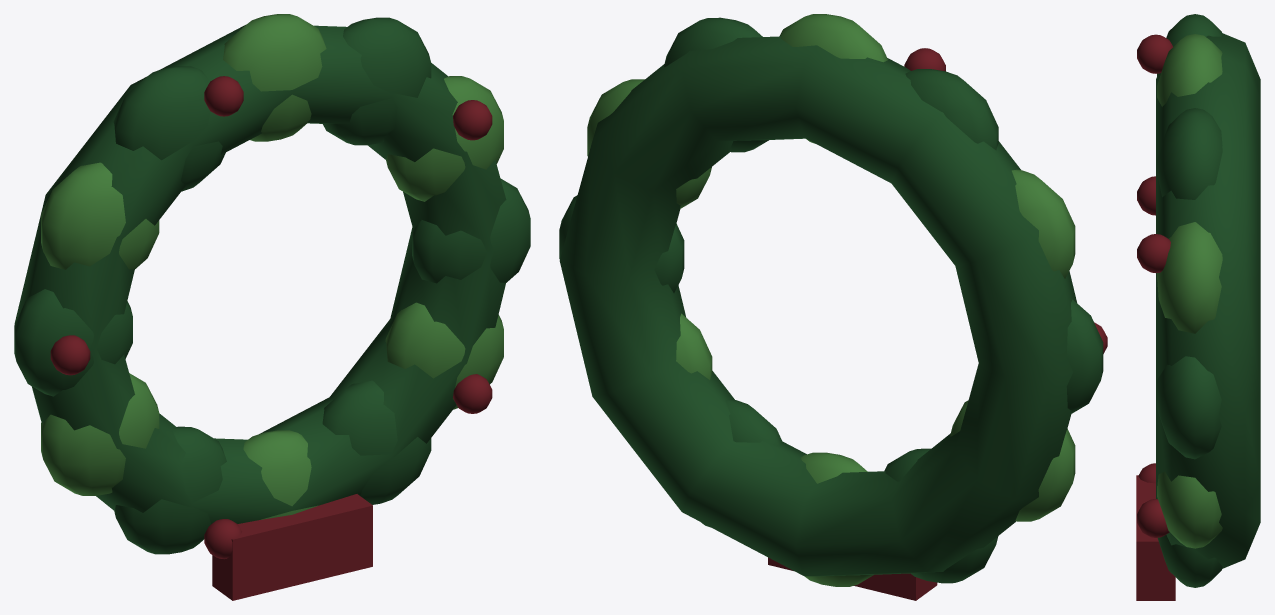
File: wreath.glb
3 renders of one model, left to right at view 1: azimuth 30°, elevation 25°; view 2: azimuth 150°, elevation 25°; view 3: azimuth 270°, elevation 25°, orthographic. The views are drawn at different scales.
Visible parts, largest first — view 1: Part0, Part18, Part6, Part5, Part4, Part3, Part8, Part9, Part7, Part11, Part1, Part12 (+7 smaller); view 2: Part0, Part5, Part6, Part4, Part7, Part3, Part8, Part9, Part2, Part10, Part1, Part11 (+3 smaller); view 3: Part0, Part2, Part1, Part3, Part12, Part4, Part18, Part11, Part13, Part14, Part5, Part17 (+2 smaller).
Part boxes in pixels (bbox=[...]): Part0: bbox=[14, 25, 506, 523]; Part18: bbox=[212, 494, 372, 600]; Part6: bbox=[41, 162, 159, 269]; Part5: bbox=[113, 66, 225, 191]; Part4: bbox=[223, 14, 326, 141]; Part3: bbox=[323, 17, 431, 145]; Part8: bbox=[41, 373, 159, 495]; Part9: bbox=[114, 426, 226, 554]; Part7: bbox=[14, 289, 132, 396]; Part11: bbox=[322, 380, 431, 504]; Part1: bbox=[412, 178, 530, 283]; Part12: bbox=[385, 302, 503, 409]; Part0: bbox=[559, 36, 1076, 576]; Part5: bbox=[905, 69, 998, 150]; Part6: bbox=[1012, 169, 1075, 278]; Part4: bbox=[780, 14, 887, 143]; Part7: bbox=[1066, 299, 1103, 413]; Part3: bbox=[664, 17, 768, 152]; Part8: bbox=[950, 400, 1075, 521]; Part9: bbox=[884, 448, 998, 583]; Part2: bbox=[587, 79, 711, 208]; Part10: bbox=[800, 452, 873, 586]; Part1: bbox=[559, 195, 684, 292]; Part11: bbox=[701, 399, 783, 527]; Part0: bbox=[1156, 33, 1260, 568]; Part2: bbox=[1157, 222, 1222, 333]; Part1: bbox=[1157, 356, 1221, 459]; Part3: bbox=[1157, 108, 1222, 199]; Part12: bbox=[1157, 471, 1222, 548]; Part4: bbox=[1157, 34, 1222, 106]; Part18: bbox=[1136, 475, 1175, 600]; Part11: bbox=[1157, 535, 1222, 587]; Part13: bbox=[1137, 234, 1170, 272]; Part14: bbox=[1137, 34, 1172, 73]; Part5: bbox=[1157, 14, 1222, 76]; Part17: bbox=[1137, 499, 1169, 537].
Bounding box in the file's own units: 0.4375 × 0.445 × 0.095.
